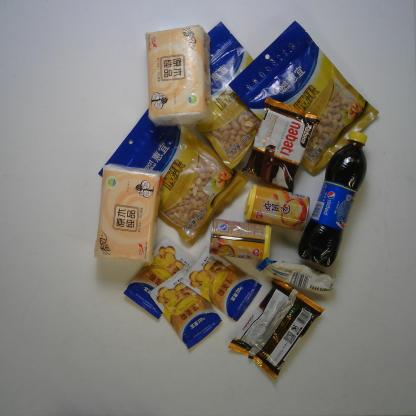Canned Food: (243, 184, 311, 232), (209, 217, 272, 263)
Chocolate: (252, 256, 338, 294)
Dessert: (226, 276, 324, 380), (240, 96, 321, 192)
Dried Fruit: (227, 19, 381, 176), (96, 100, 250, 249), (170, 20, 292, 169)
Drink: (298, 130, 376, 268)
Seasoner: (122, 235, 198, 321), (177, 247, 262, 323), (150, 266, 223, 352)
Tissue: (92, 162, 163, 265), (145, 23, 214, 126)
